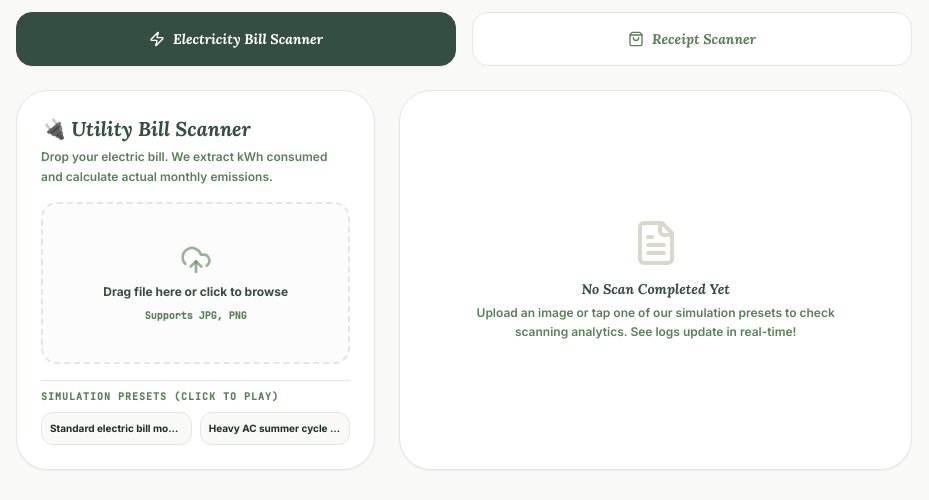
it: Challenges Completion and Scanned carbon entries workflows › Document Scanners OCR Engine › submits Simulated slip scanner presets successfully
# Switch tab to Receipt Scanner
Click the button "Receipt Scanner".
click(692, 39)  # box [472,12,912,66]
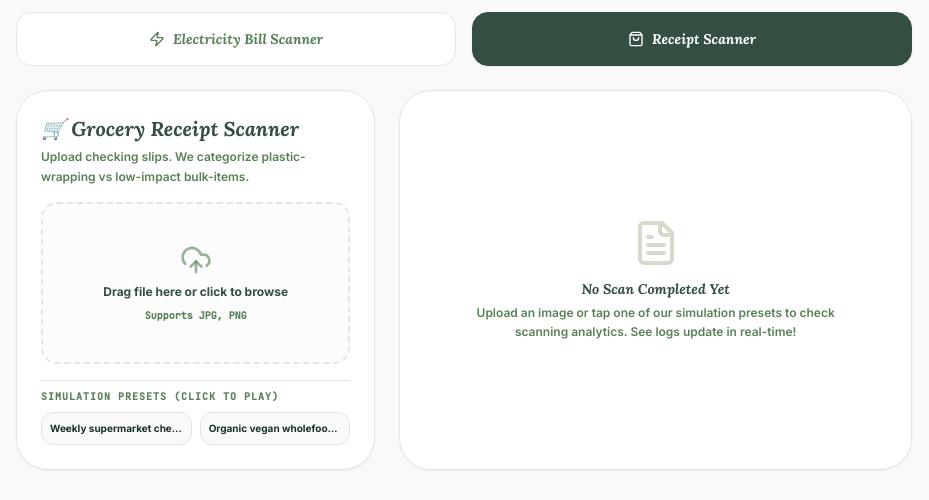
# Click the supermarket checkout slip preset button
Click the button "Weekly supermarket checkout slip".
click(116, 428)  # box [41,412,192,445]
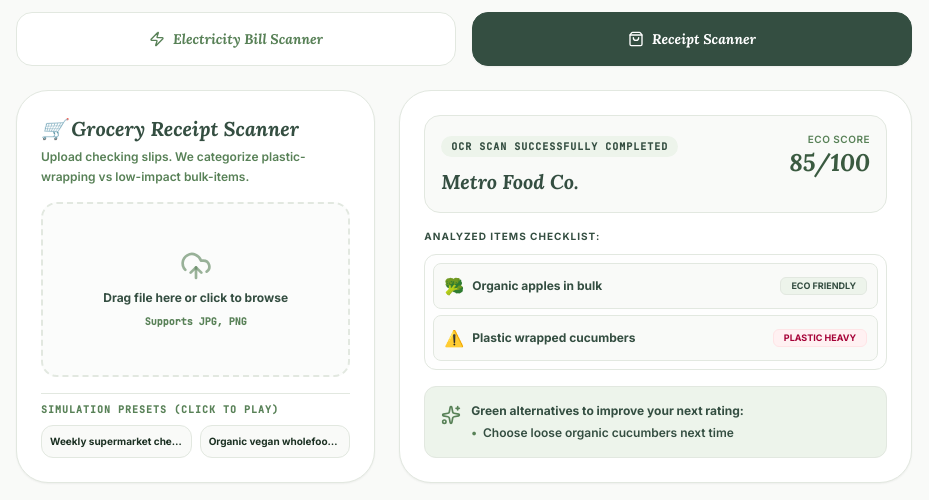
Result: the heading "Metro Food Co." is shown at [441,169,579,194]
Result: the text "Organic apples in bulk" is shown at [472,278,602,294]
